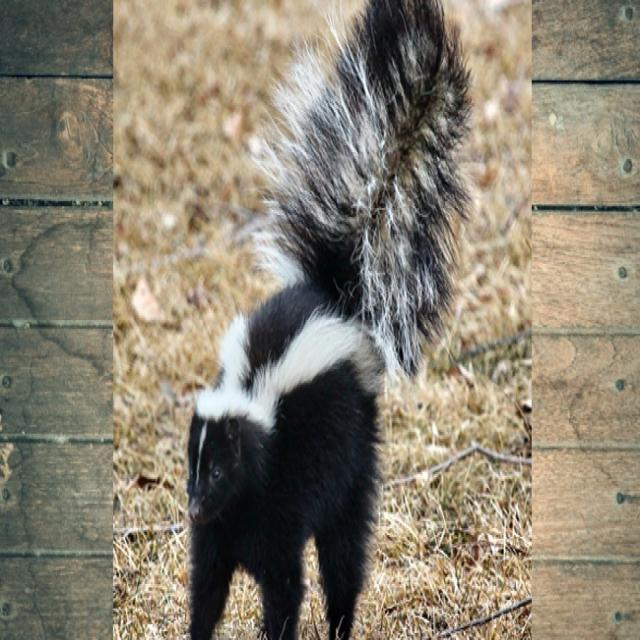Skunk: (177, 0, 462, 626)
